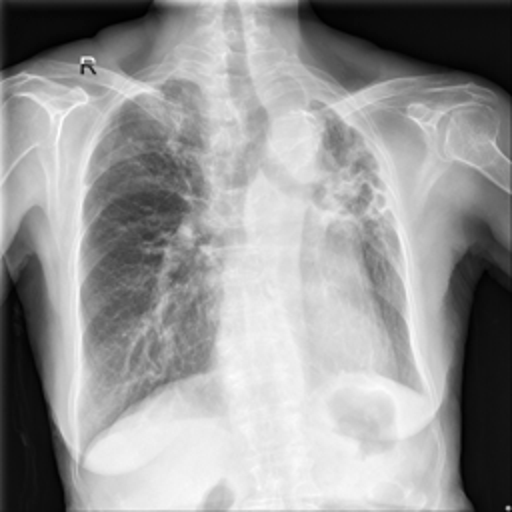TB: (103, 122, 186, 318), (284, 108, 394, 235)
